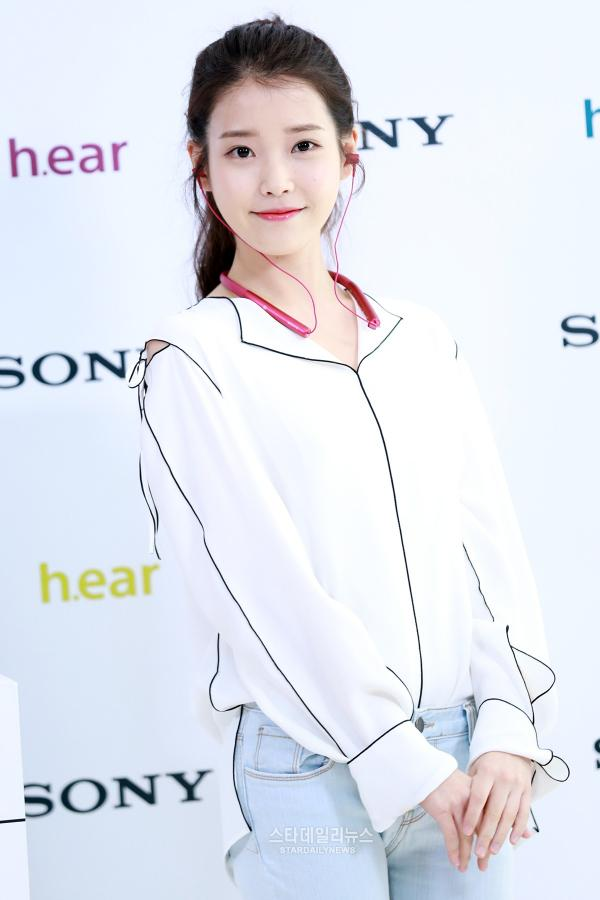earphone: (186, 140, 212, 193), (340, 126, 361, 180)
